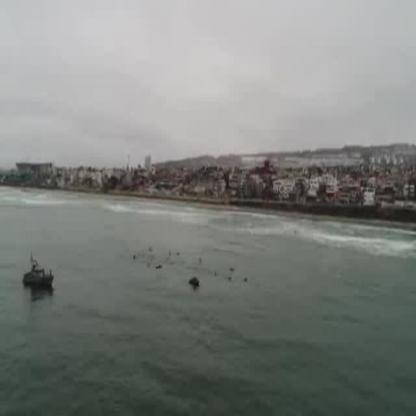Boat: (19, 255, 55, 301)
